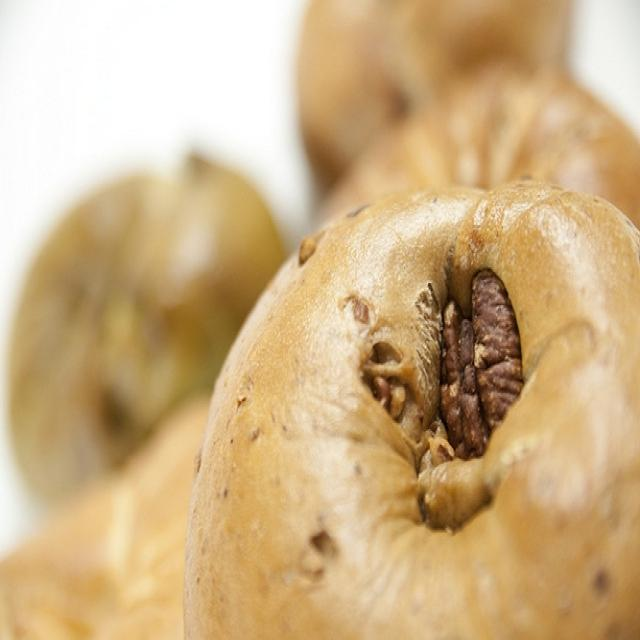面包点心: (18, 9, 636, 618)
